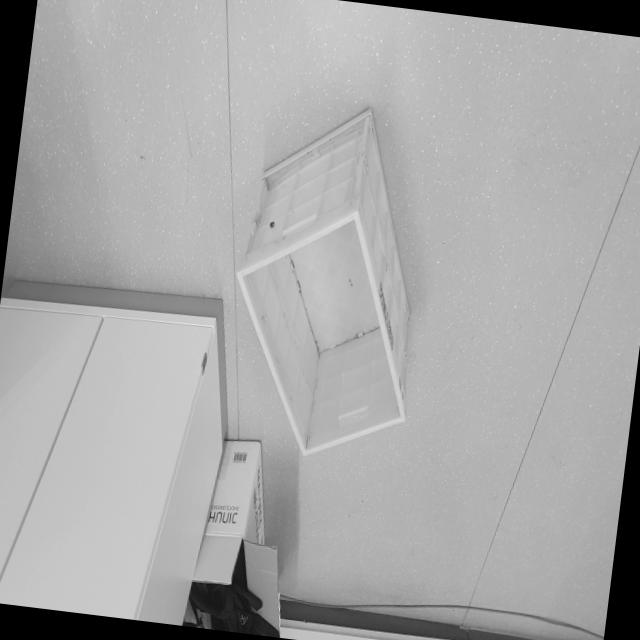box: (211, 80, 448, 477)
